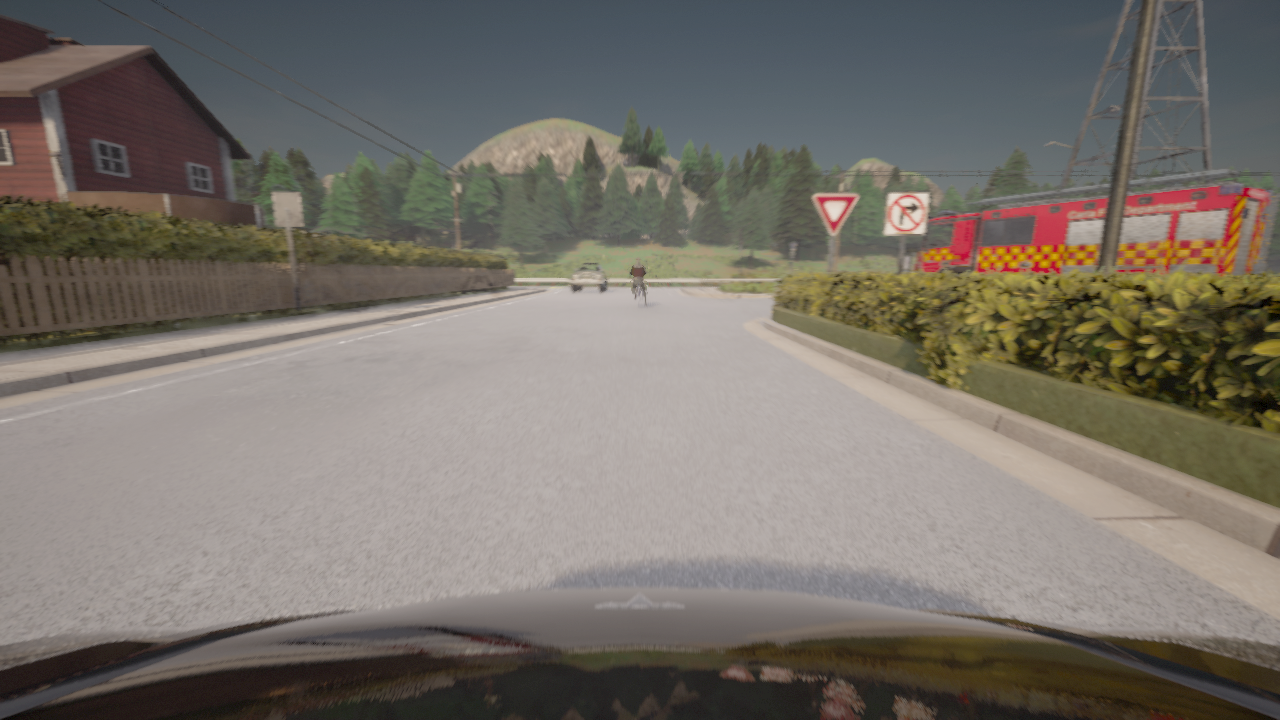cyclist: (0, 588, 1279, 719), (913, 168, 1279, 277), (571, 261, 607, 293), (634, 285, 642, 307)
